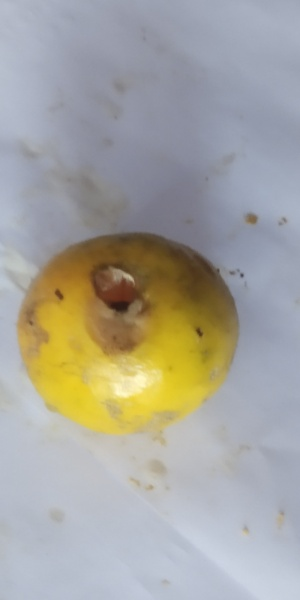BAD: (14, 234, 241, 439)
